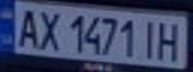1: (63, 11, 87, 53), (118, 16, 139, 57)
4: (81, 12, 103, 54)
7: (100, 14, 121, 56)
A: (12, 6, 42, 49)
H: (154, 18, 187, 62)
I: (136, 17, 160, 60)
X: (36, 7, 63, 52)
